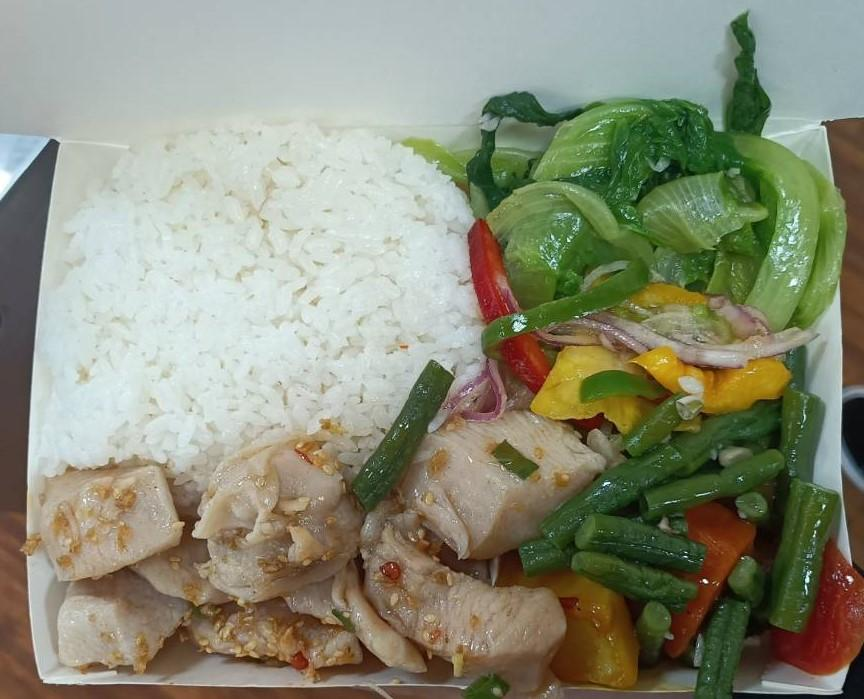big grilled chicken leg: (24, 112, 864, 699)
big herbal chicken leg: (51, 119, 466, 461)
braised fish fillet: (457, 80, 847, 318), (545, 396, 848, 683), (478, 288, 815, 420)
braised pork: (37, 408, 595, 686)
